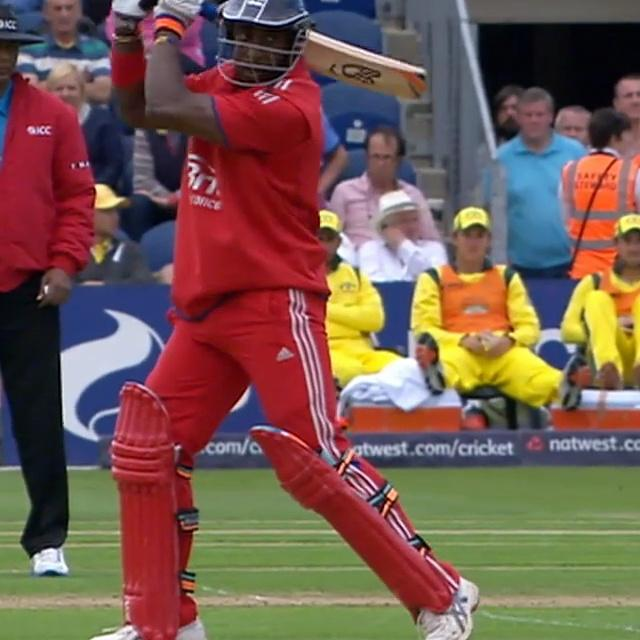umpire: (0, 0, 104, 586)
